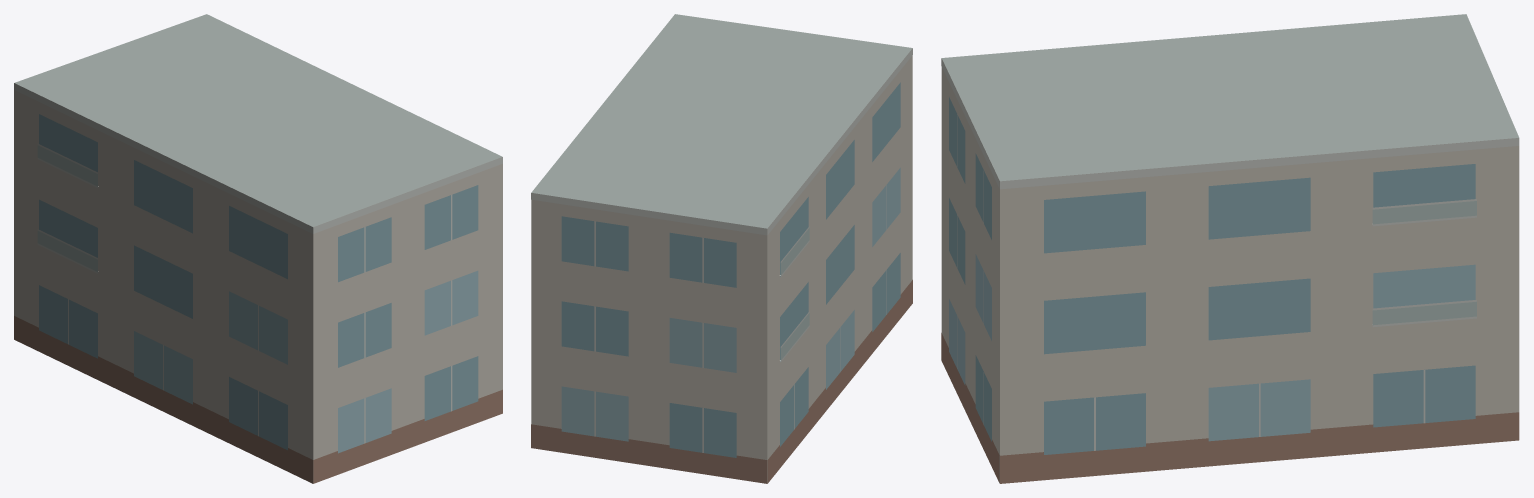
Rendered from survey-upis-32964240.glb.
3 renders of one model, left to right at view 1: azimuth 30°, elevation 25°; view 2: azimuth 150°, elevation 25°; view 3: azimuth 270°, elevation 25°, orthographic. The views are drawn at different scales.
Parts seen in each view (by area): view 1: survey-upis-32964240.tmp; view 2: survey-upis-32964240.tmp; view 3: survey-upis-32964240.tmp.
Boxes of the visible parts, x1,y1,x2,y2 form: survey-upis-32964240.tmp: [14, 14, 502, 483]; survey-upis-32964240.tmp: [531, 14, 912, 483]; survey-upis-32964240.tmp: [941, 14, 1519, 483].
Size of the model in its own units: 10.86 by 9.15 by 15.85.
